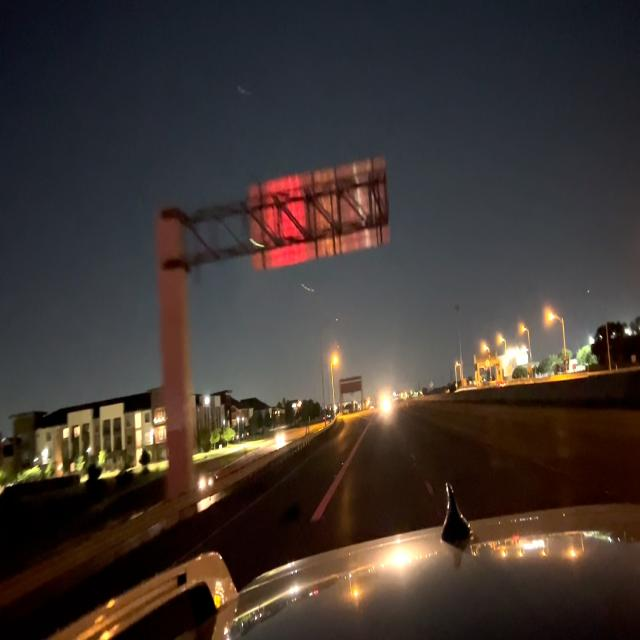back-of-sign: (247, 159, 390, 278)
